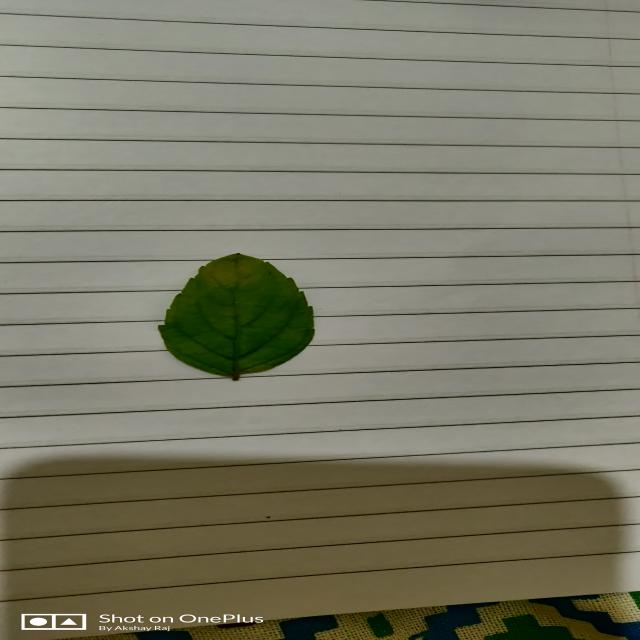tulsi: (159, 254, 315, 380)
